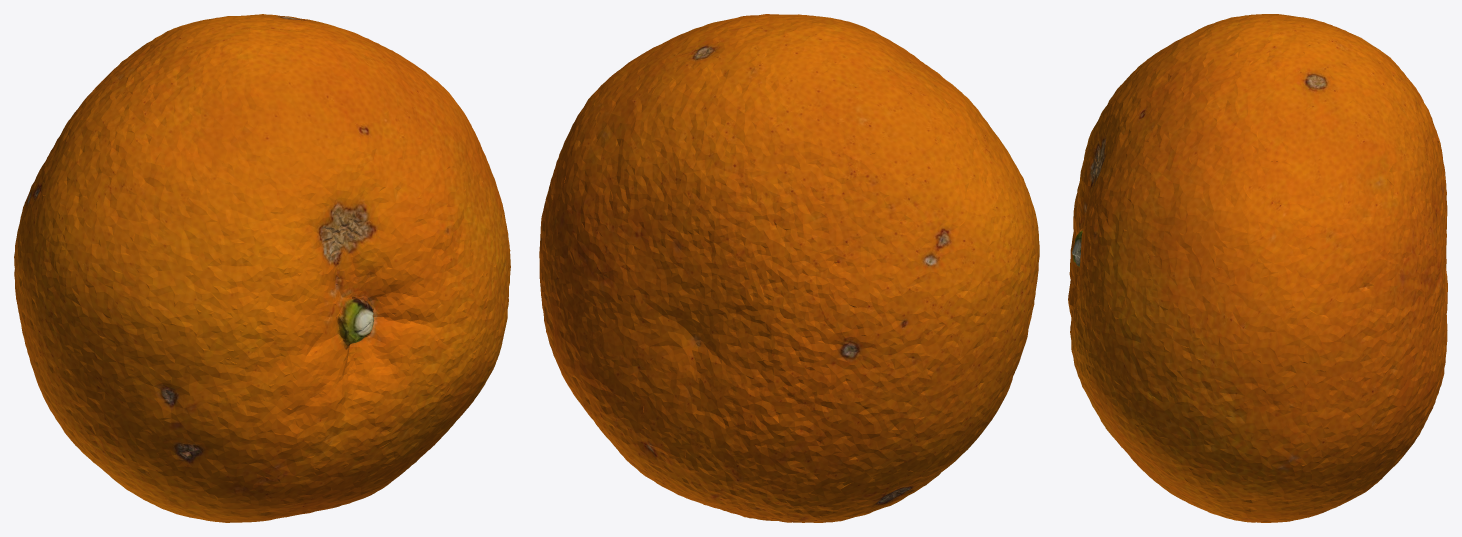
The model's file is citrus.glb.
3 renders of one model, left to right at view 1: azimuth 30°, elevation 25°; view 2: azimuth 150°, elevation 25°; view 3: azimuth 270°, elevation 25°, orthographic. The views are drawn at different scales.
Parts seen in each view (by area): view 1: Node; view 2: Node; view 3: Node.
Boxes of the visible parts, x1=… form: Node: x1=14, y1=14, x2=510, y2=522; Node: x1=539, y1=14, x2=1039, y2=522; Node: x1=1068, y1=14, x2=1447, y2=522.
Size of the model in its own units: 2.37 by 2.4 by 1.82.
1 material, 1 textured.
